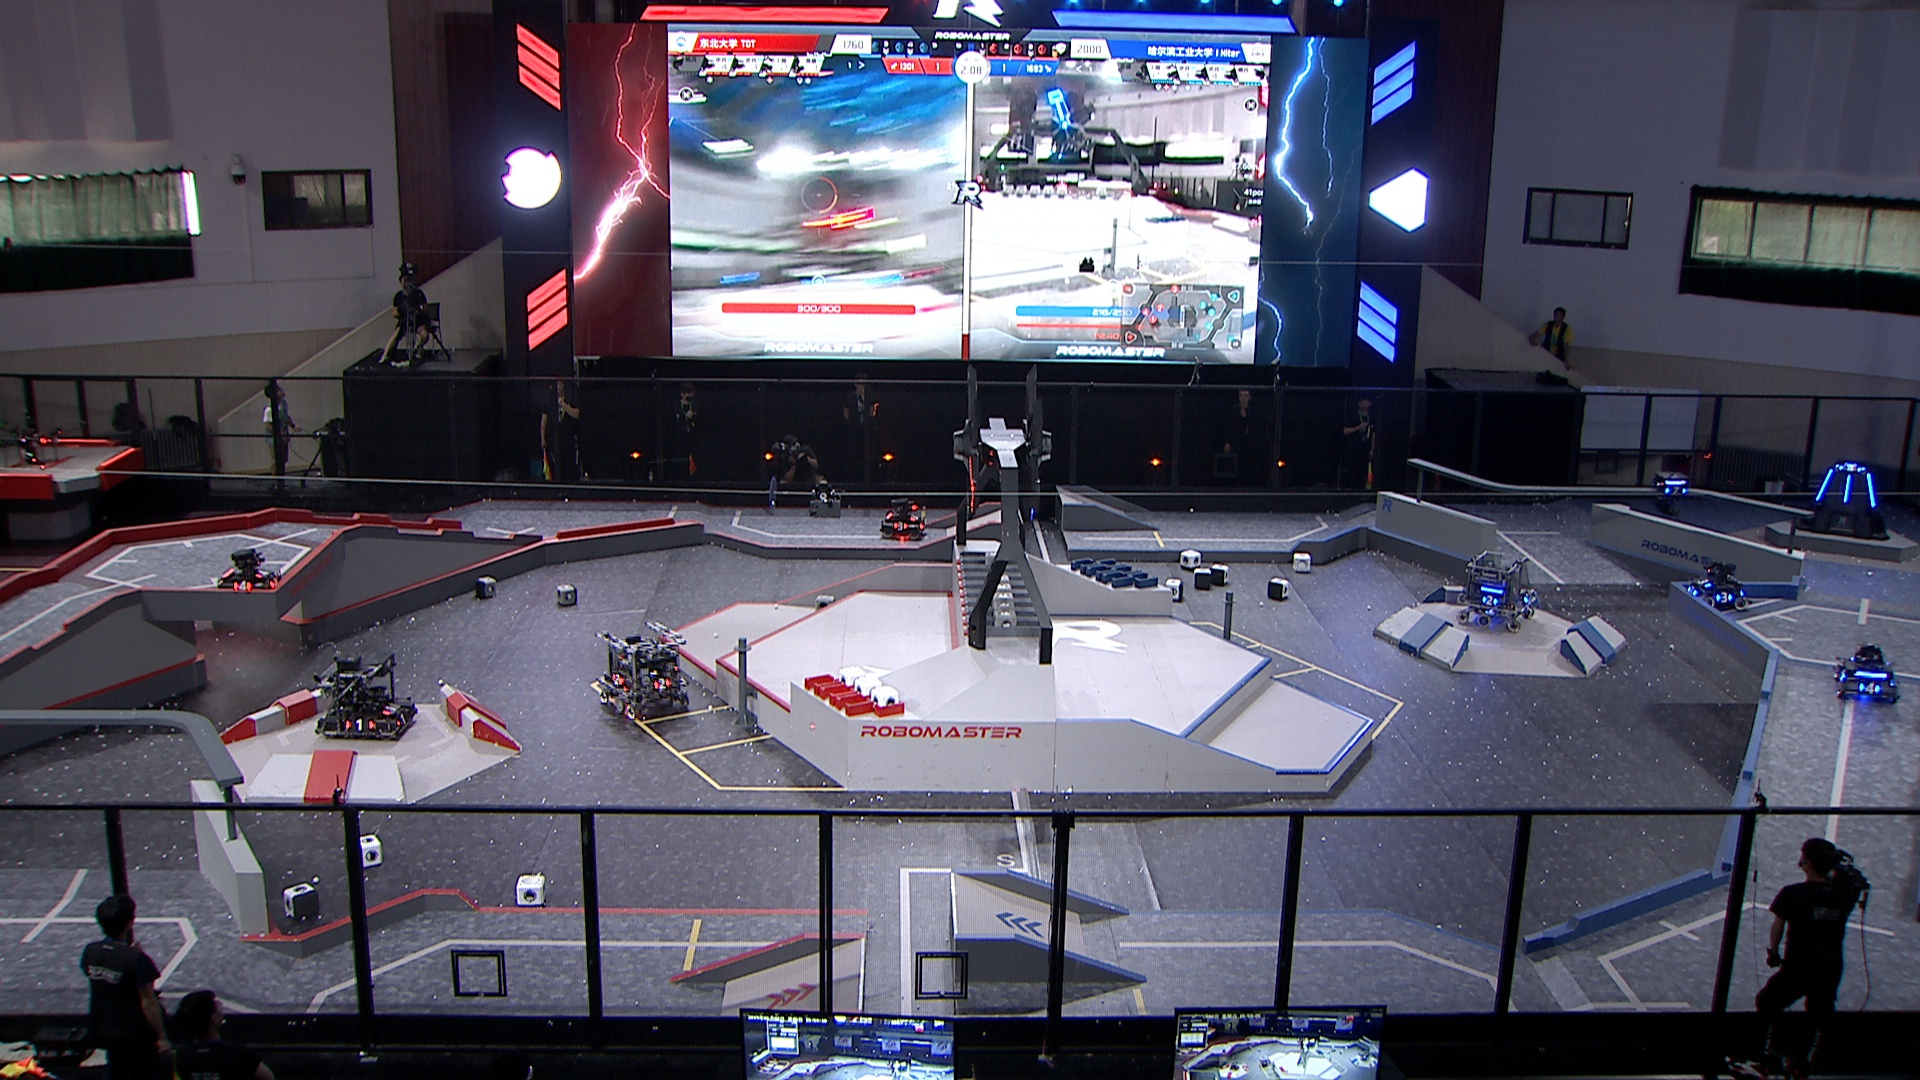armor: (1813, 465, 1836, 502), (1865, 469, 1879, 509), (377, 698, 404, 717), (1840, 472, 1855, 504), (390, 707, 411, 731), (342, 717, 377, 731), (1858, 680, 1883, 698), (1662, 484, 1688, 498), (1695, 572, 1716, 589), (252, 566, 276, 580), (231, 579, 255, 593), (1840, 462, 1865, 475), (266, 571, 284, 589), (608, 670, 624, 688), (1481, 593, 1501, 608), (1713, 589, 1733, 604), (651, 675, 670, 690), (1836, 666, 1850, 684), (891, 520, 911, 533), (1688, 583, 1704, 599), (1520, 589, 1534, 608), (906, 510, 922, 522)
base: (1793, 460, 1894, 545)
car: (596, 618, 694, 725), (315, 646, 419, 741), (1455, 550, 1538, 636), (1832, 638, 1902, 705), (212, 545, 286, 597), (1684, 559, 1749, 617), (873, 498, 930, 545)
watcher: (1647, 465, 1693, 514)
